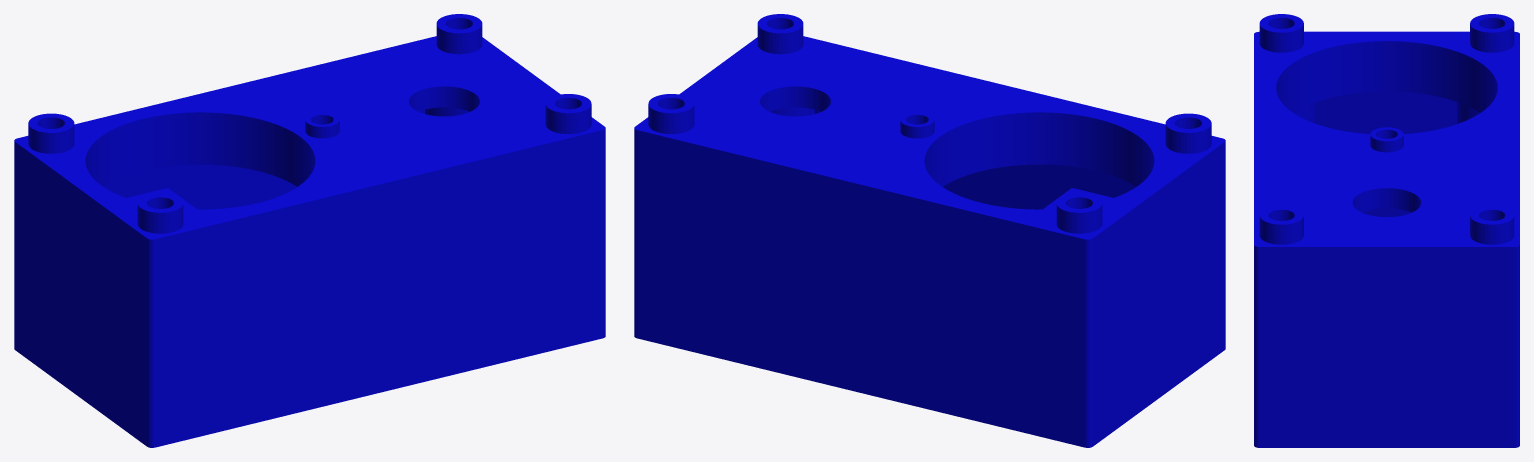
File: part 4 middle cover.fbx
3 views of the same model, side by side, from view 1: azimuth 30°, elevation 25°; view 2: azimuth 150°, elevation 25°; view 3: azimuth 270°, elevation 25° (orthographic). The views are drawn at different scales.
Visible parts, largest first — view 1: Default; view 2: Default; view 3: Default.
Part boxes in pixels (x1=…): Default: x1=14, y1=14, x2=605, y2=447; Default: x1=634, y1=14, x2=1225, y2=447; Default: x1=1254, y1=14, x2=1519, y2=447.
Bounding box in the file's own units: 23 × 11 × 12.
